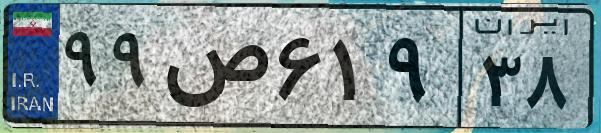1: (330, 28, 385, 110)
3: (475, 38, 525, 113)
6: (270, 28, 330, 110)
8: (525, 38, 570, 115)
9: (385, 28, 445, 110), (57, 26, 110, 100), (110, 28, 158, 98)
ص: (158, 20, 270, 120)
